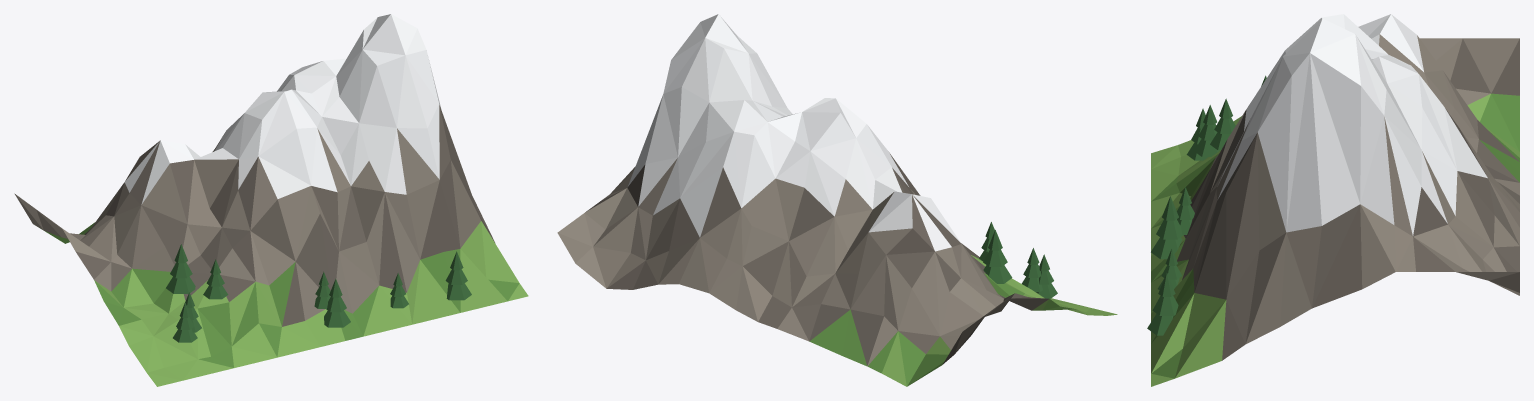
File: mountains-b.glb
The picture shows the model from 3 angles, left to right: view 1: azimuth 30°, elevation 25°; view 2: azimuth 150°, elevation 25°; view 3: azimuth 270°, elevation 25°; orthographic projection. The views are drawn at different scales.
Visible parts, largest first — view 1: mountains-b; view 2: mountains-b; view 3: mountains-b.
Boxes of the visible parts, x1,y1,x2,y2 form: mountains-b: (14,14,528,386); mountains-b: (557,14,1117,386); mountains-b: (1147,14,1519,386).
Bounding box in the file's own units: 24 × 15.49 × 16.18.
